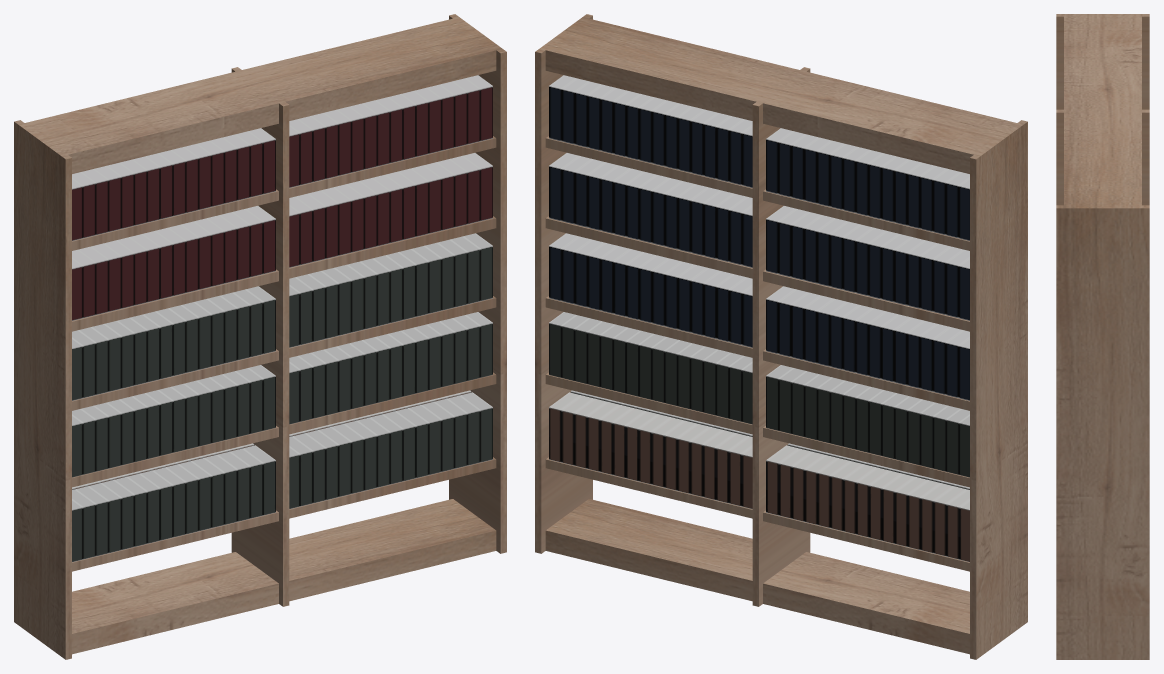
Rendered from bookself_wood.fbx.
3 views of the same model, side by side, from view 1: azimuth 30°, elevation 25°; view 2: azimuth 150°, elevation 25°; view 3: azimuth 270°, elevation 25° (orthographic). The views are drawn at different scales.
Parts seen in each view (by area): view 1: bookself_wood; view 2: bookself_wood; view 3: bookself_wood.
Boxes of the visible parts, x1,y1,x2,y2 form: bookself_wood: (14, 14, 506, 659); bookself_wood: (535, 14, 1027, 659); bookself_wood: (1056, 14, 1149, 659).
Bounding box in the file's own units: 0.0226 × 0.0245 × 0.00459.
1 material, 1 textured.
